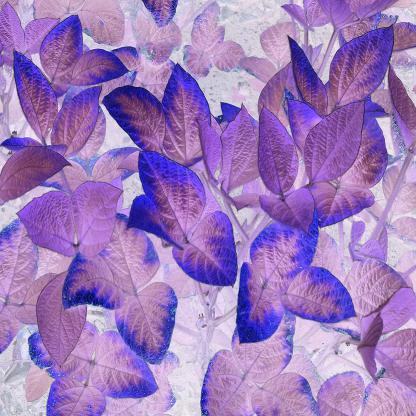soybean leaf: (127, 150, 209, 248), (165, 210, 246, 296), (329, 19, 398, 107), (252, 207, 321, 293), (280, 259, 360, 333), (302, 96, 366, 184), (160, 63, 213, 168), (114, 284, 179, 368), (33, 266, 86, 369), (232, 261, 290, 348), (60, 246, 129, 317), (101, 83, 167, 157), (10, 48, 62, 141), (16, 187, 82, 258), (0, 146, 73, 206), (51, 74, 104, 156), (254, 103, 300, 194), (285, 32, 332, 121), (216, 100, 260, 195), (72, 179, 126, 252), (37, 10, 85, 78), (253, 185, 316, 231), (67, 46, 133, 87)
